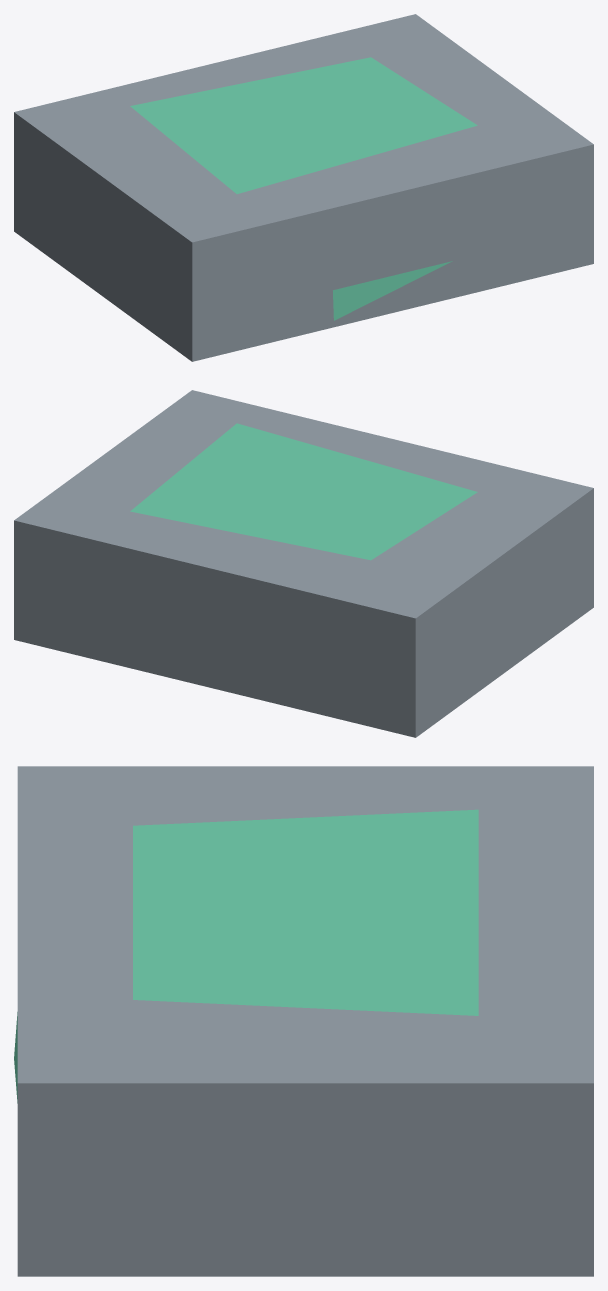
File: CO_LeiheGunship_LOD1.glb
3 renders of one model, top to bottom at view 1: azimuth 30°, elevation 25°; view 2: azimuth 150°, elevation 25°; view 3: azimuth 270°, elevation 25°, orthographic. The views are drawn at different scales.
Parts seen in each view (by area): view 1: EntranceGate; view 2: EntranceGate; view 3: EntranceGate.
Boxes of the visible parts, x1,y1,x2,y2 form: EntranceGate: (14,14,593,361); EntranceGate: (14,390,593,737); EntranceGate: (14,766,593,1276).
Size of the model in its own units: 690 by 216 by 533.
